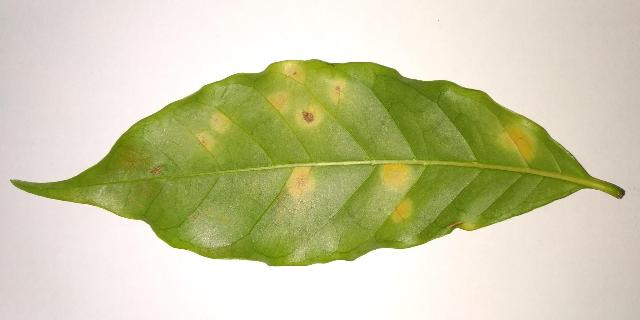miner: (502, 126, 534, 160), (287, 164, 314, 204), (380, 164, 410, 190), (295, 105, 323, 128), (282, 60, 305, 83), (390, 198, 412, 222), (268, 92, 290, 112), (328, 79, 346, 102), (211, 112, 229, 132), (196, 132, 214, 150)
